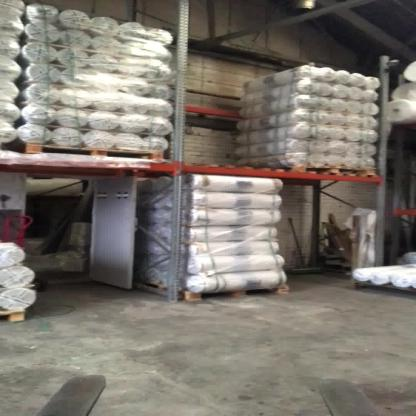vertical_damage: (166, 273, 190, 304)
